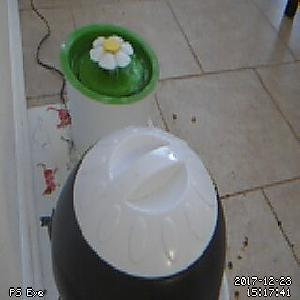fountain: (58, 24, 160, 106)
